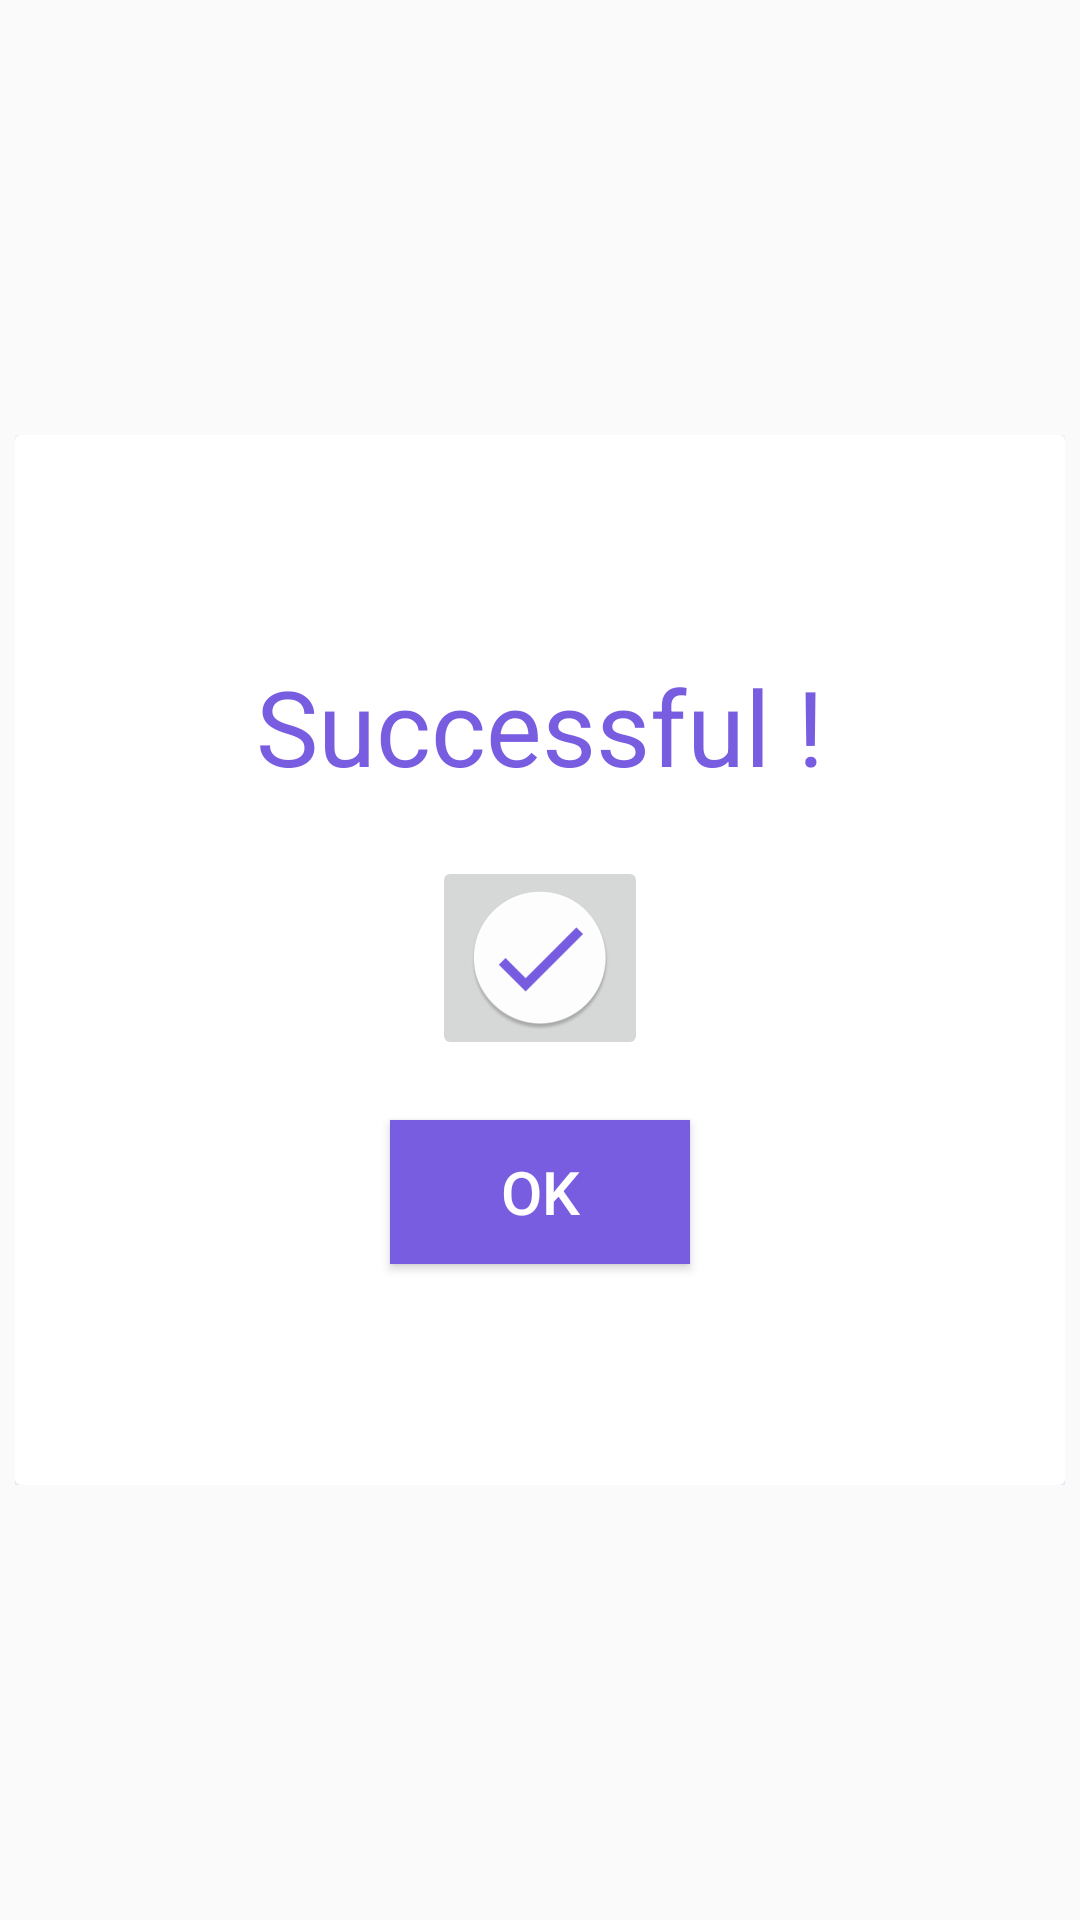

Icons on this 1080px×1920px Android screen, each with the point to tap as [x,y]:
successitm: [540,958]
